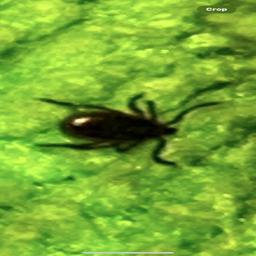Ixodes scapularis: (34, 92, 222, 167)
